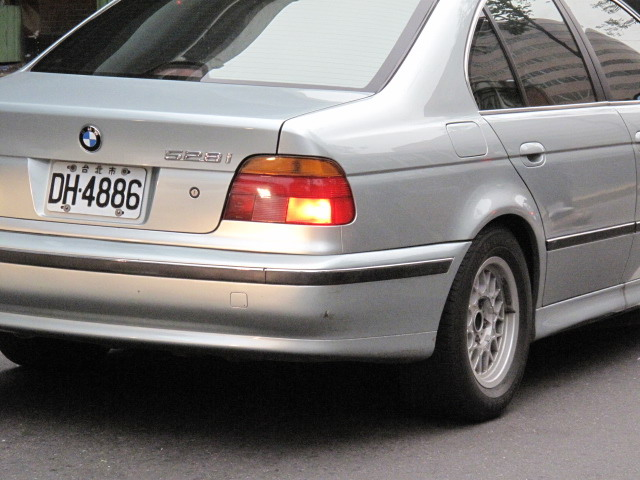plate: (44, 156, 148, 223)
